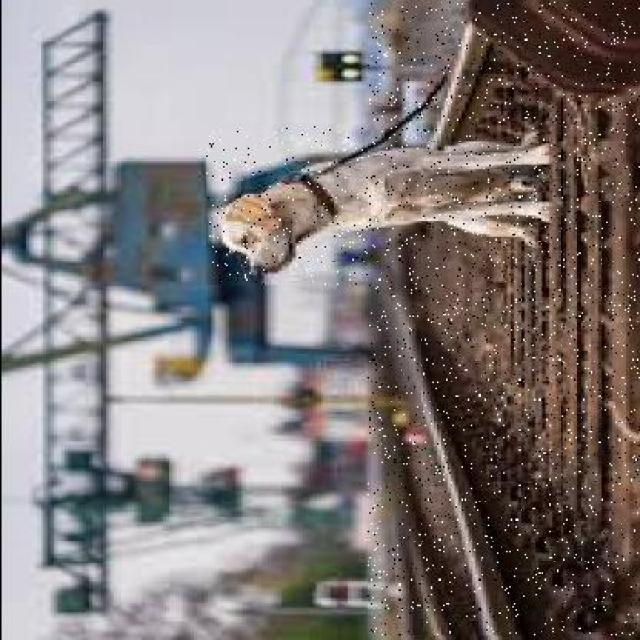rail: (368, 3, 639, 636)
